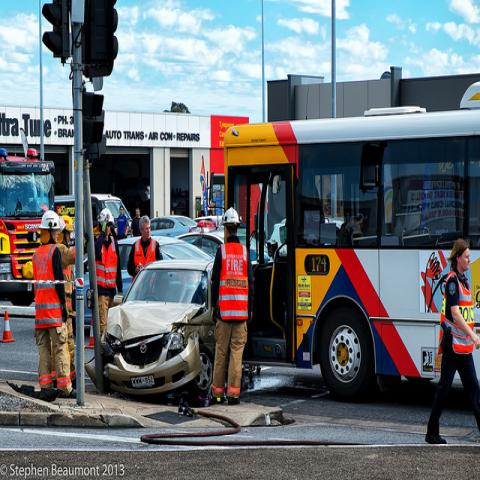bus: (220, 79, 480, 400), (0, 147, 59, 284)
car: (82, 257, 216, 398), (84, 235, 214, 323), (54, 194, 132, 239), (177, 232, 224, 257), (150, 215, 198, 239), (194, 217, 217, 234)
truck: (1, 148, 56, 308)
